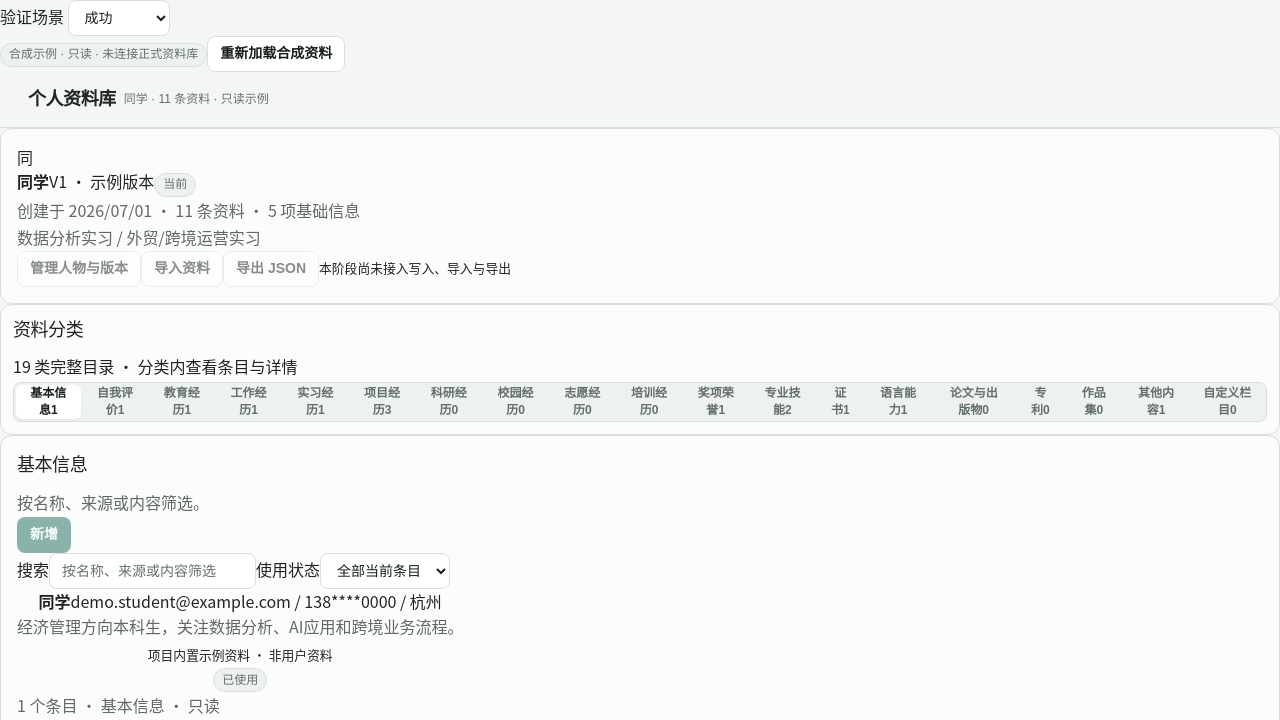
Test case: P522 Host experience › shows error without stale facts
Expected: the tab "基本信息1" is shown, [16,386,81,419]
Select "服务错误" in the dropdown labelled "验证场景" at (119, 18), box [68,0,170,36]
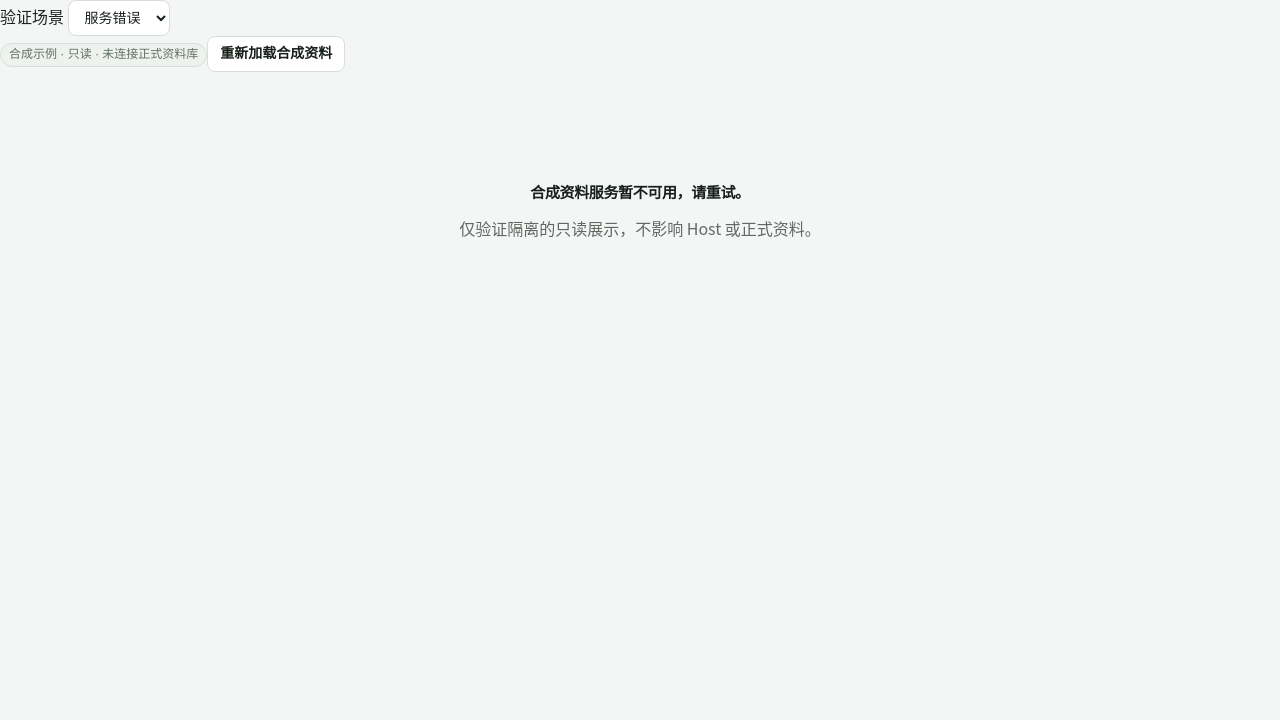
Now the heading "合成资料服务暂不可用，请重试。" is shown, box [530,182,750,203]
